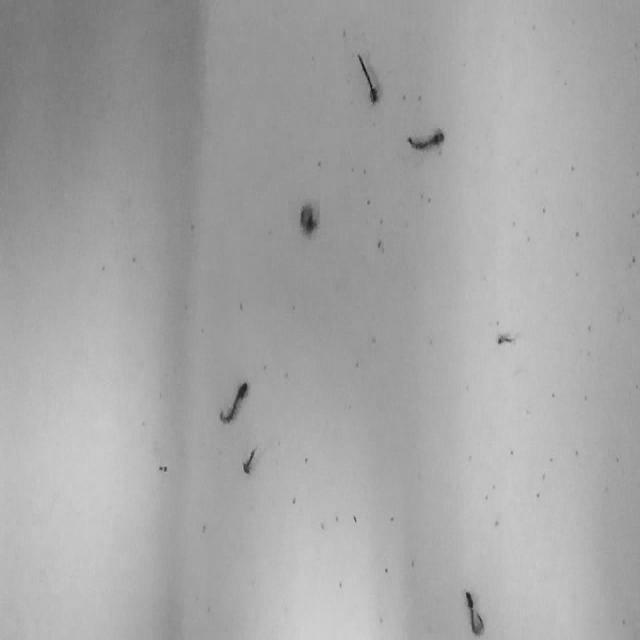larvas: (218, 379, 248, 422), (356, 52, 379, 105), (465, 590, 485, 636), (299, 199, 320, 238), (406, 128, 444, 148), (242, 444, 255, 474), (497, 332, 517, 345)
